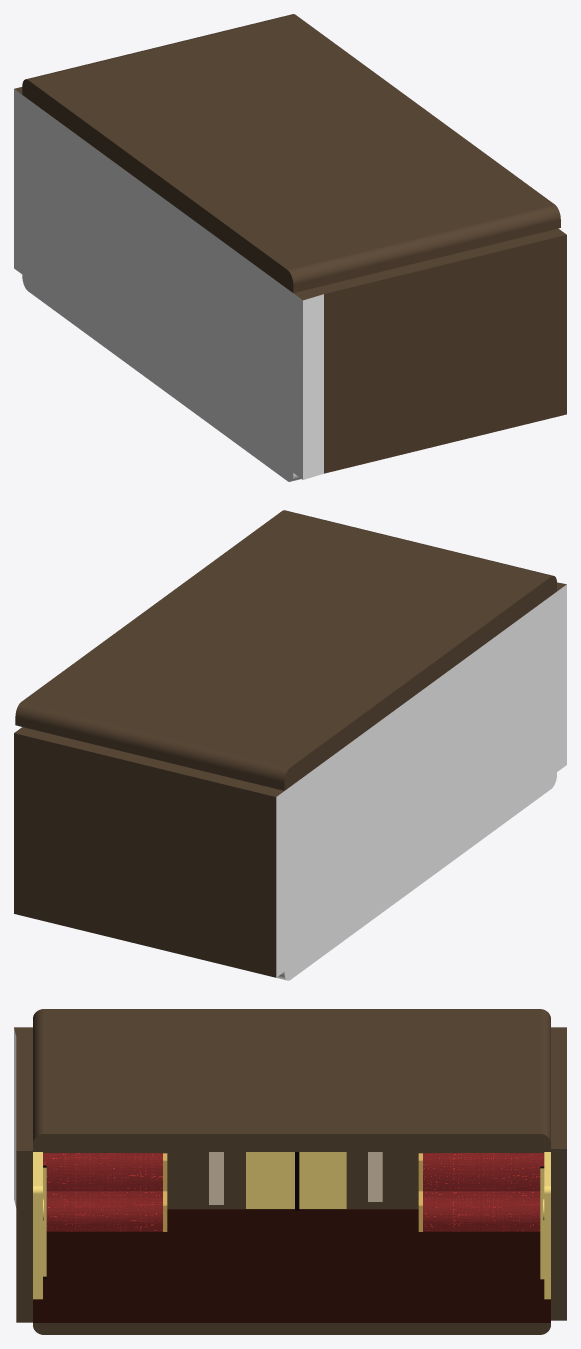
The model's file is car1.glb.
The picture shows the model from 3 angles, top to bottom: view 1: azimuth 30°, elevation 25°; view 2: azimuth 150°, elevation 25°; view 3: azimuth 270°, elevation 25°; orthographic projection. The views are drawn at different scales.
Parts seen in each view (by area): view 1: Cube.009; view 2: Cube.009; view 3: Cube.009, chair.004, chair.003, Cube.012, Cube.013, Cube.014, Cube.015, Cube.016.
Part boxes in pixels (x1=…): Cube.009: x1=14, y1=14, x2=566, y2=481; Cube.009: x1=14, y1=510, x2=566, y2=980; Cube.009: x1=14, y1=1009, x2=566, y2=1334; chair.004: x1=418, y1=1153, x2=544, y2=1231; chair.003: x1=43, y1=1153, x2=167, y2=1231; Cube.012: x1=246, y1=1152, x2=346, y2=1210; Cube.013: x1=33, y1=1152, x2=46, y2=1299; Cube.014: x1=540, y1=1152, x2=550, y2=1299; Cube.015: x1=209, y1=1152, x2=223, y2=1204; Cube.016: x1=368, y1=1152, x2=382, y2=1201.
Size of the model in its own units: 13.06 by 9.86 by 24.45.
Materials: 1 (1 with a texture image).
